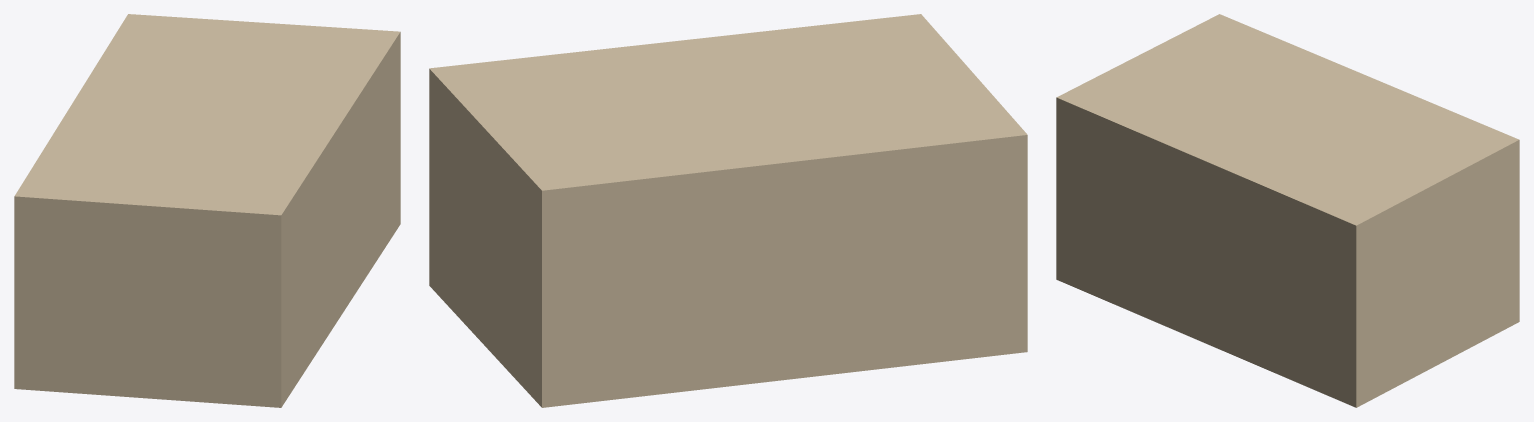
The model's file is 19_4-estimated-coarse.glb.
3 views of the same model, side by side, from view 1: azimuth 30°, elevation 25°; view 2: azimuth 150°, elevation 25°; view 3: azimuth 270°, elevation 25° (orthographic). The views are drawn at different scales.
Bounding box in the file's own units: 29.9 × 12 × 27.63.
